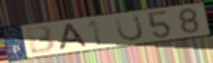1: (86, 18, 103, 46)
5: (145, 9, 173, 40)
8: (177, 7, 202, 35)
A: (57, 22, 90, 51)
B: (24, 24, 58, 55)
U: (114, 13, 146, 43)
